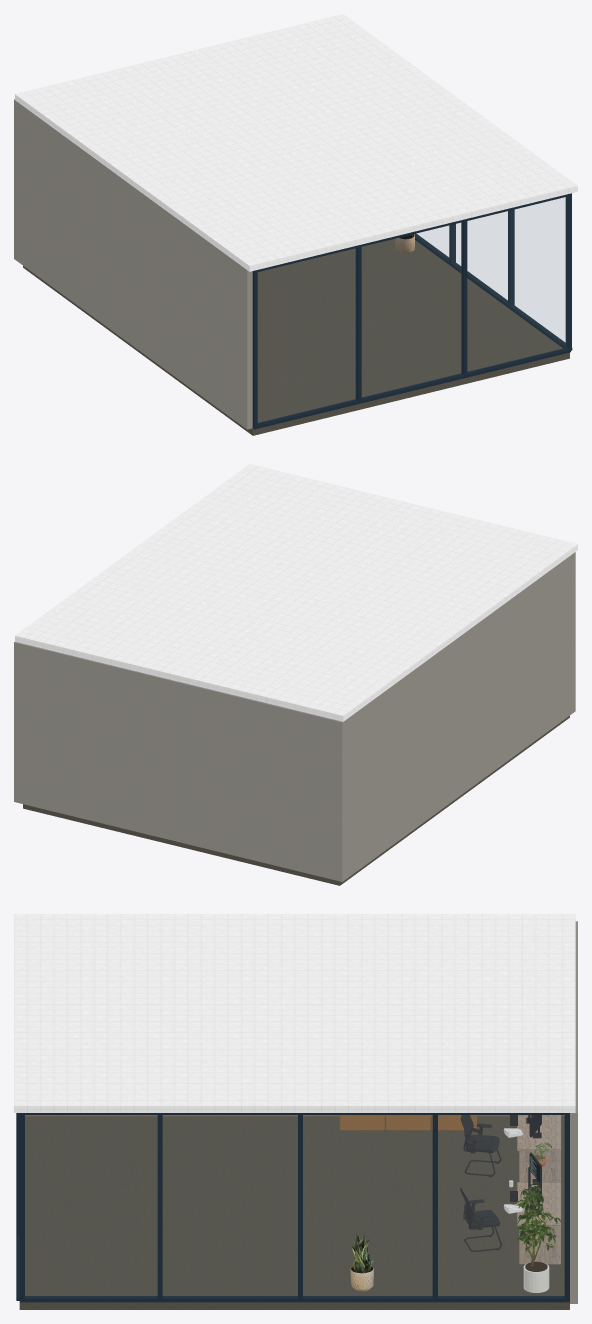
3 views of the same model, one above another, from view 1: azimuth 30°, elevation 25°; view 2: azimuth 150°, elevation 25°; view 3: azimuth 270°, elevation 25° (orthographic). The views are drawn at different scales.
Parts seen in each view (by area): view 1: Ai_architecture, Ai_floor; view 2: Ai_architecture, Ai_floor; view 3: Ai_architecture, Ai_floor, Ai_furniture, Ai_plants, Ai_details.
Part boxes in pixels (<box>): Ai_architecture: <box>14,14,577,429</box>; Ai_floor: <box>23,238,569,435</box>; Ai_architecture: <box>14,464,577,881</box>; Ai_floor: <box>23,716,569,885</box>; Ai_architecture: <box>14,914,577,1303</box>; Ai_floor: <box>19,1116,569,1309</box>; Ai_furniture: <box>339,1115,561,1264</box>; Ai_plants: <box>350,1142,560,1292</box>; Ai_details: <box>503,1115,541,1213</box>.
Bounding box in the file's own units: 8.08 × 4.07 × 10.04.
Materials: 48 (20 with a texture image).
